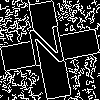N: (25, 25, 70, 76)
